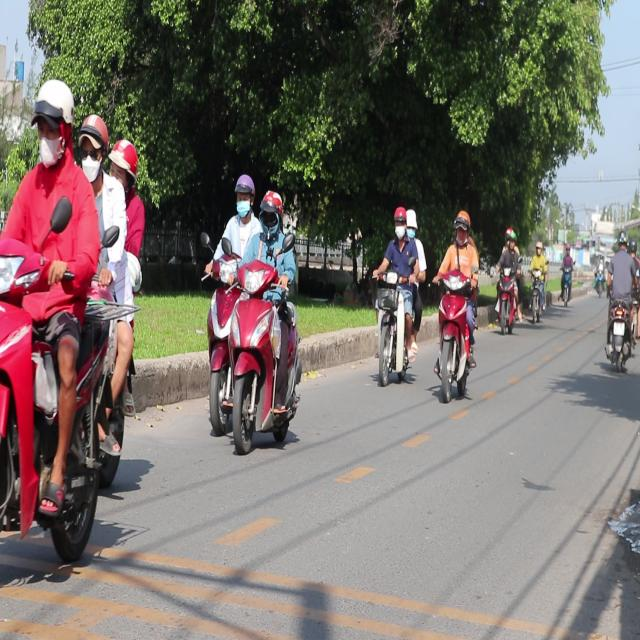helmet: (29, 77, 75, 166), (77, 112, 109, 166), (108, 140, 138, 192), (233, 173, 256, 217), (258, 190, 282, 228), (452, 209, 470, 244), (392, 205, 407, 240)
licenseplate: (0, 76, 144, 585), (197, 172, 305, 454), (370, 205, 424, 387), (431, 208, 480, 402)
motorcyclist: (406, 206, 416, 235)
